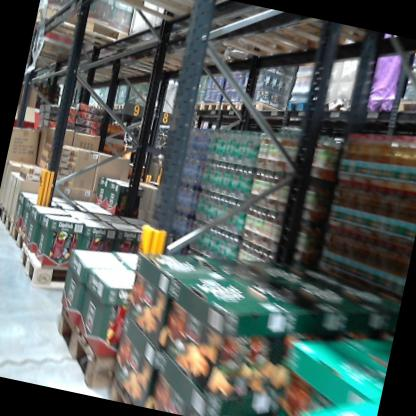pallet: (11, 0, 247, 301), (37, 300, 134, 400), (31, 0, 149, 61), (235, 90, 325, 123), (0, 209, 33, 260), (177, 88, 229, 120), (388, 90, 416, 124), (216, 92, 242, 116)
